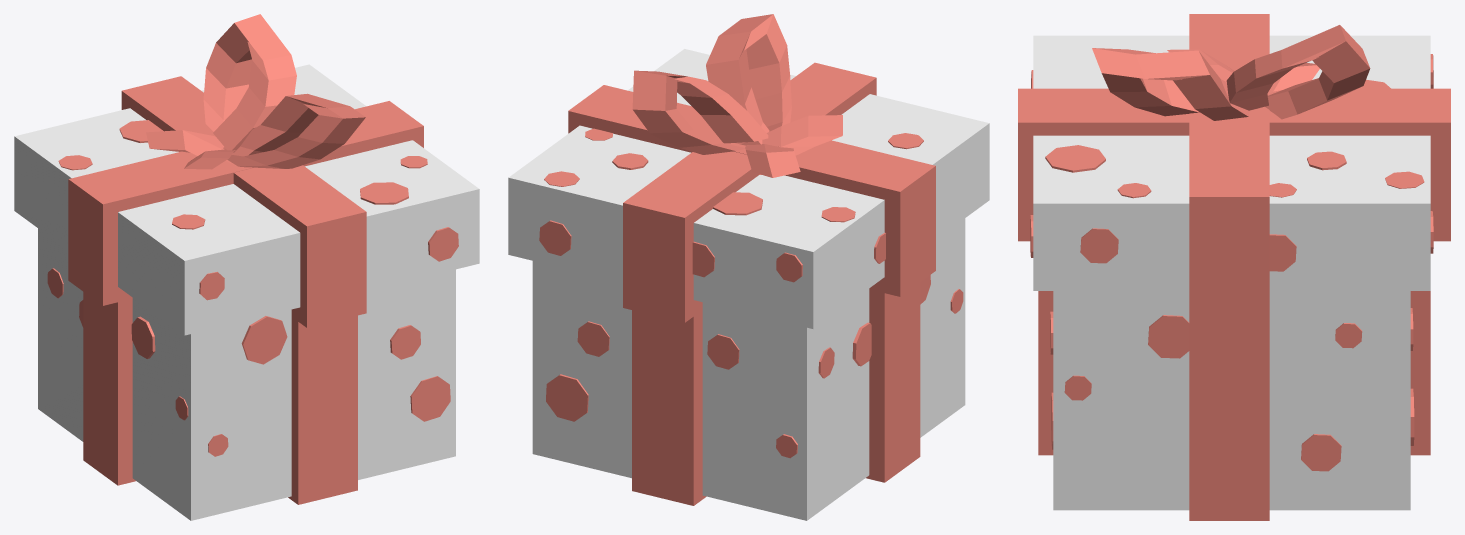
File: Gift_Square_polkadot.glb
3 renders of one model, left to right at view 1: azimuth 30°, elevation 25°; view 2: azimuth 150°, elevation 25°; view 3: azimuth 270°, elevation 25°, orthographic. The views are drawn at different scales.
Visible parts, largest first — view 1: gift2; view 2: gift2; view 3: gift2.
Boxes of the visible parts, left/top/right/bottom form: gift2: left=14, top=14, right=479, bottom=520; gift2: left=508, top=14, right=989, bottom=520; gift2: left=1018, top=14, right=1450, bottom=520.
Size of the model in its own units: 0.64 by 0.7081 by 0.64.
